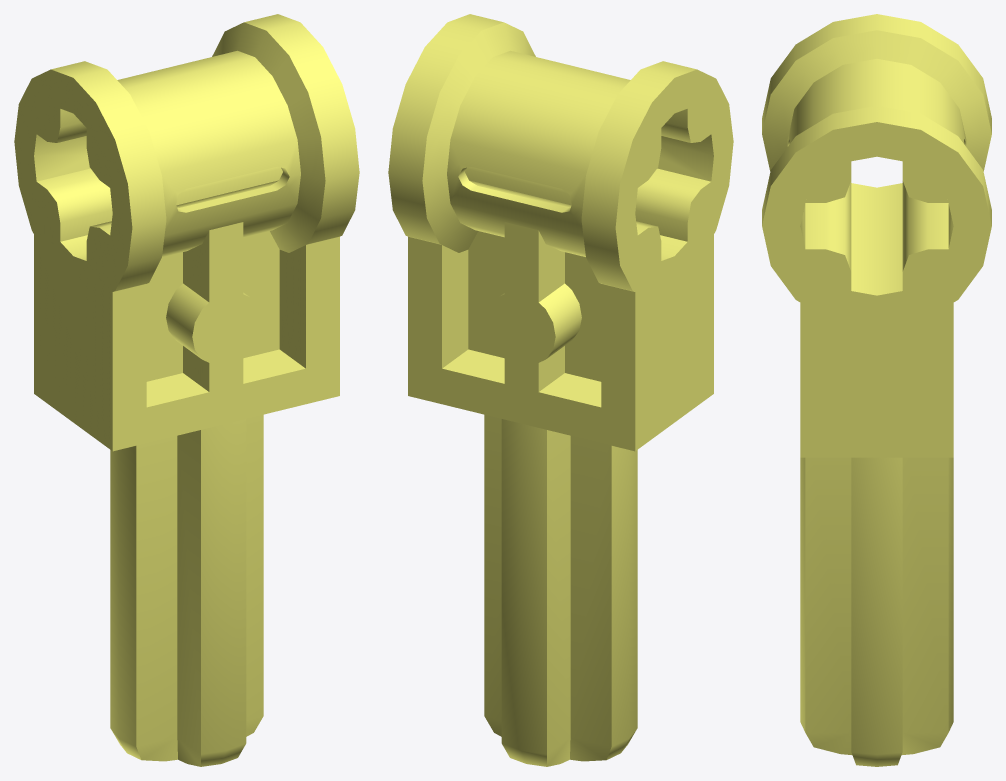
The picture shows the model from 3 angles, left to right: view 1: azimuth 30°, elevation 25°; view 2: azimuth 150°, elevation 25°; view 3: azimuth 270°, elevation 25°; orthographic projection. The views are drawn at different scales.
Parts seen in each view (by area): view 1: 6553.dat; view 2: 6553.dat; view 3: 6553.dat.
Boxes of the visible parts, left/top/right/bottom form: 6553.dat: left=14, top=14, right=359, bottom=766; 6553.dat: left=388, top=14, right=733, bottom=766; 6553.dat: left=762, top=14, right=991, bottom=766.
Size of the model in its own units: 0.008 by 0.0234 by 0.0072.
